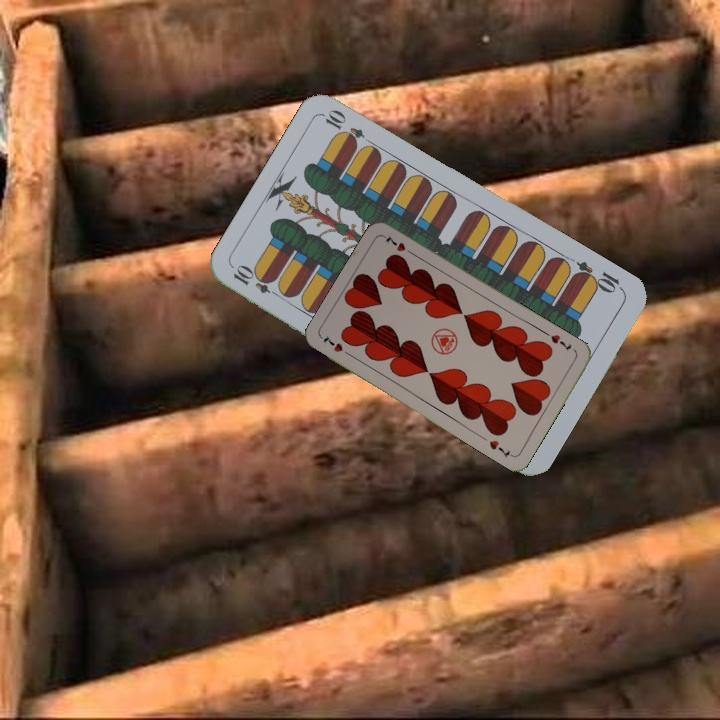E10: (569, 257, 626, 297), (229, 262, 285, 301)
H7: (318, 331, 354, 360), (547, 330, 574, 354)
